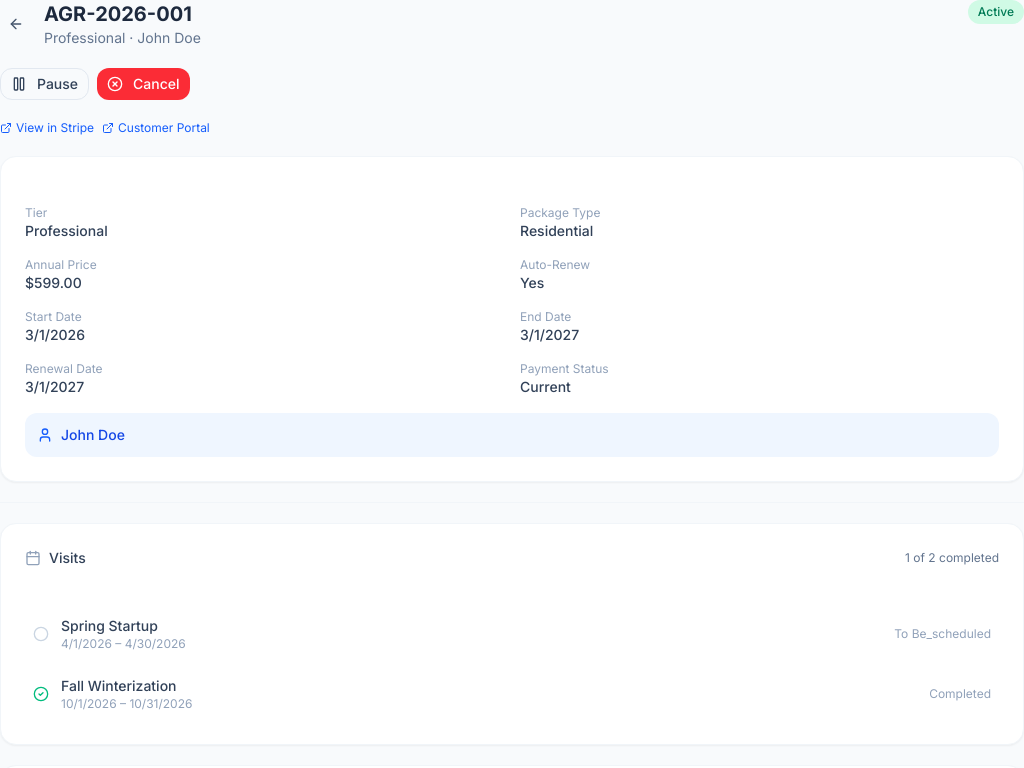
AgreementDetail › cancel dialog requires reason before confirming
Click the button with test id "cancel-agreement-btn" at (143, 84), box [97,68,190,100]
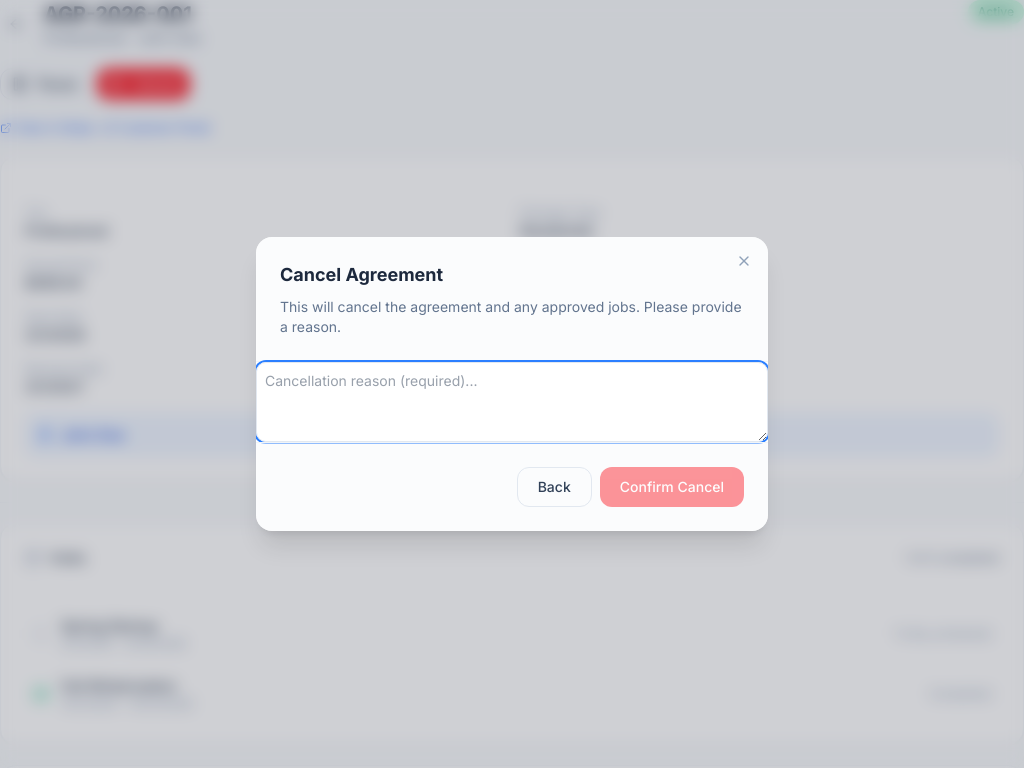
Expected: the dialog with test id "cancel-dialog" is shown, [256,237,768,531]
Expected: the button with test id "cancel-dialog-confirm" is disabled, [600,467,744,507]
Type "Customer requested" into the text box with test id "cancel-reason-input" at (512, 402), box [256,362,768,442]
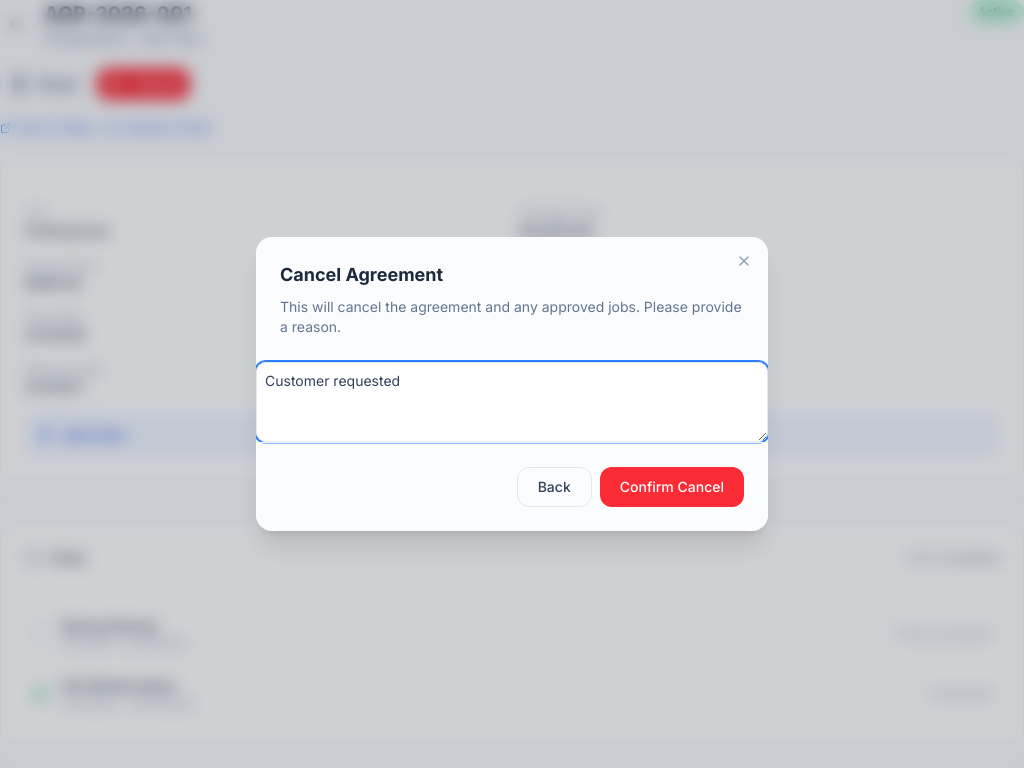
Expected: the button with test id "cancel-dialog-confirm" is enabled, [600,467,744,507]
